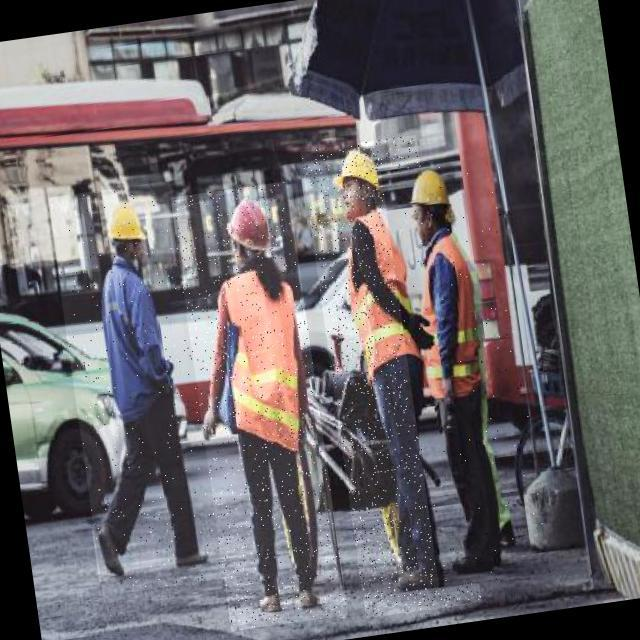Gloves: (400, 305, 438, 362), (189, 395, 226, 442), (431, 372, 458, 405)
Helmet: (223, 196, 274, 257), (330, 148, 380, 197), (104, 202, 147, 246), (408, 168, 452, 210)
Person: (195, 189, 325, 638), (410, 149, 510, 593), (78, 187, 181, 591), (323, 148, 408, 613)
Safety Boot: (92, 523, 131, 583), (396, 563, 447, 595), (452, 551, 501, 578), (170, 547, 214, 571), (257, 593, 284, 616), (297, 588, 322, 612)
Safety Vest: (214, 267, 316, 461), (339, 207, 426, 389), (407, 230, 498, 401)
